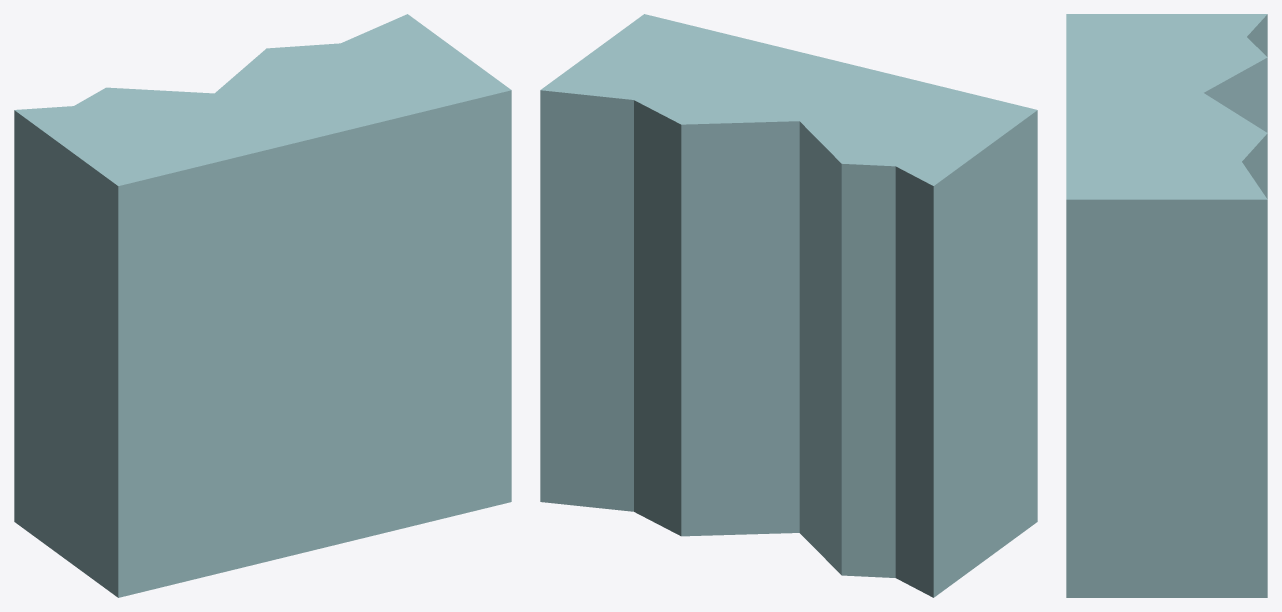
File: cliffGrey.obj
3 views of the same model, side by side, from view 1: azimuth 30°, elevation 25°; view 2: azimuth 150°, elevation 25°; view 3: azimuth 270°, elevation 25° (orthographic). The views are drawn at different scales.
Parts seen in each view (by area): view 1: cliffGrey; view 2: cliffGrey; view 3: cliffGrey.
Boxes of the visible parts, box(x1,y1,x2,y2) form: cliffGrey: box(14, 14, 511, 597); cliffGrey: box(540, 14, 1037, 597); cliffGrey: box(1066, 14, 1267, 597).
Bounding box in the file's own units: 10 × 10 × 4.58.
